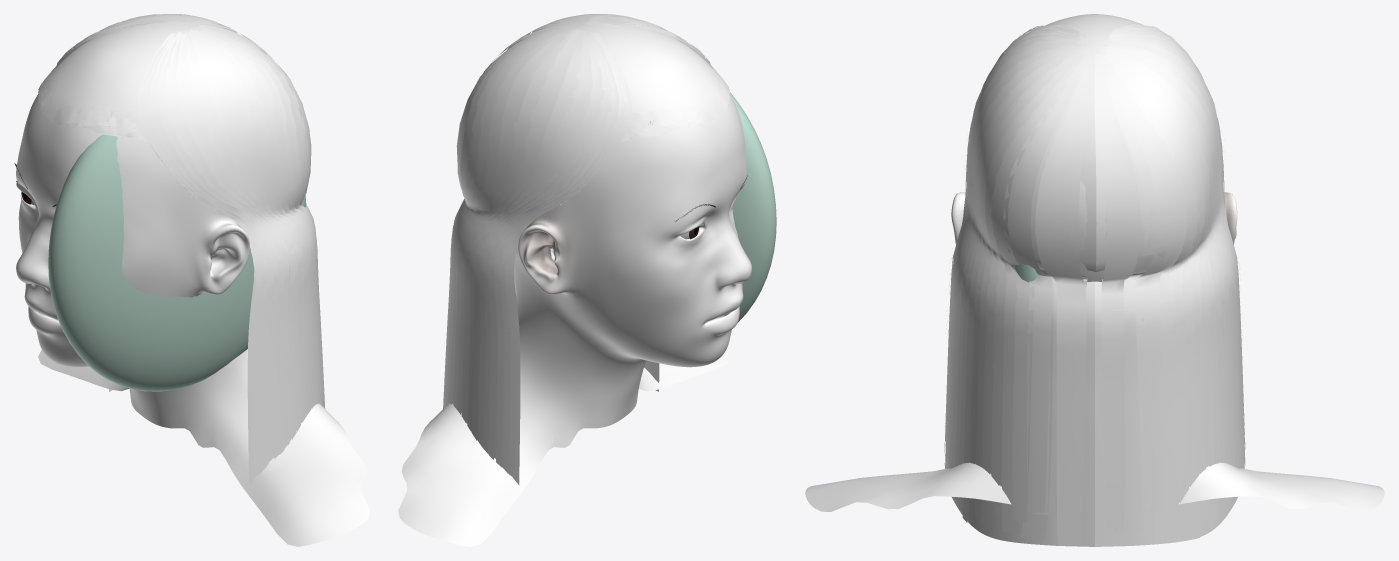
Rendered from Model_ImmersiveEar.glb.
3 views of the same model, side by side, from view 1: azimuth 30°, elevation 25°; view 2: azimuth 150°, elevation 25°; view 3: azimuth 270°, elevation 25° (orthographic). The views are drawn at different scales.
Parts seen in each view (by area): view 1: Model_ProfileHairStrands, Model_Temple, Model_Pillow, Model_ProfileHair; view 2: Model_Temple, Model_ProfileHairStrands, Model_ProfileHair, Model_Pillow; view 3: Model_ProfileHairStrands, Model_ProfileHair, Model_Temple.
Part boxes in pixels (x1=…): Model_ProfileHairStrands: x1=38, y1=14, x2=325, y2=485; Model_Temple: x1=16, y1=94, x2=369, y2=546; Model_Pillow: x1=48, y1=134, x2=305, y2=391; Model_ProfileHair: x1=39, y1=20, x2=273, y2=484; Model_Temple: x1=398, y1=94, x2=751, y2=546; Model_ProfileHairStrands: x1=443, y1=14, x2=729, y2=476; Model_ProfileHair: x1=494, y1=19, x2=728, y2=484; Model_Pillow: x1=729, y1=92, x2=776, y2=322; Model_ProfileHairStrands: x1=944, y1=24, x2=1245, y2=545; Model_ProfileHair: x1=947, y1=14, x2=1237, y2=546; Model_Temple: x1=805, y1=192, x2=1384, y2=511.
Bounding box in the file's own units: 195 × 275 × 319.
